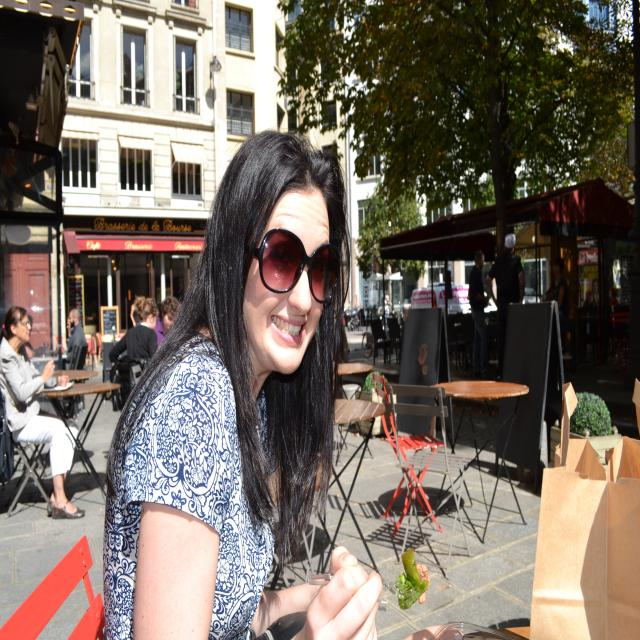body: (99, 125, 383, 640), (0, 302, 85, 518), (484, 230, 526, 379), (3, 312, 44, 444), (108, 295, 159, 392), (539, 253, 572, 385), (469, 248, 489, 377), (582, 277, 604, 361), (61, 310, 88, 370), (62, 308, 88, 370), (623, 266, 640, 356), (153, 294, 180, 350), (381, 288, 395, 319), (130, 298, 139, 328), (608, 286, 620, 308)
